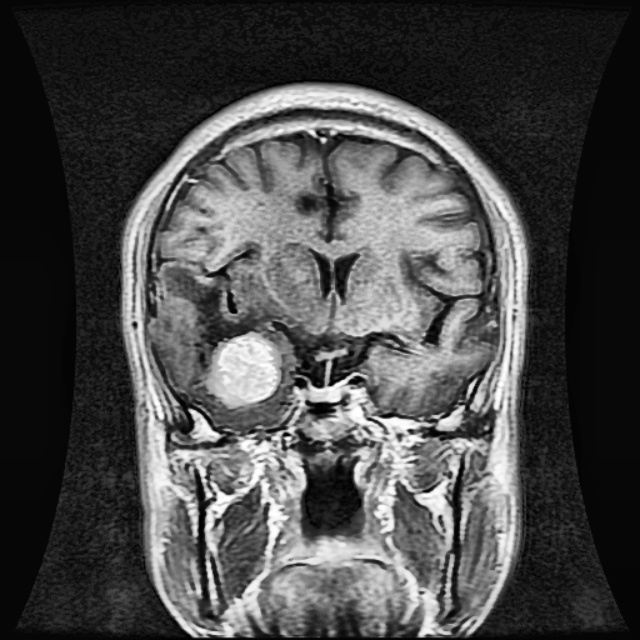Glioma: (208, 330, 279, 410)
